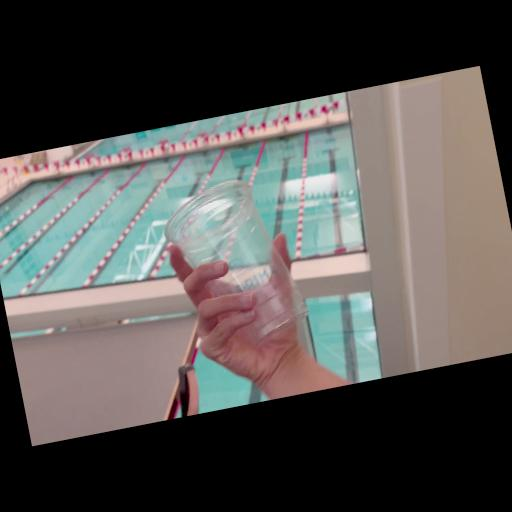lp_plastic_cup: (154, 168, 318, 360)
